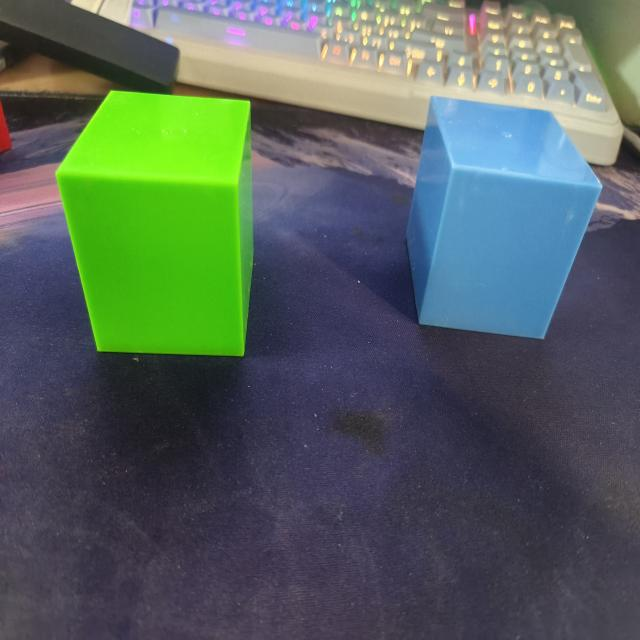blue: (401, 84, 606, 369)
green: (54, 87, 264, 372)
